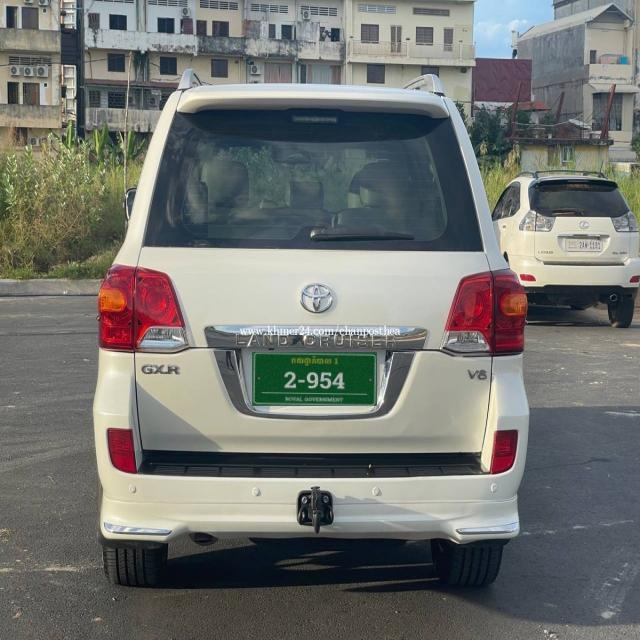Plate Number: (252, 352, 378, 406)
